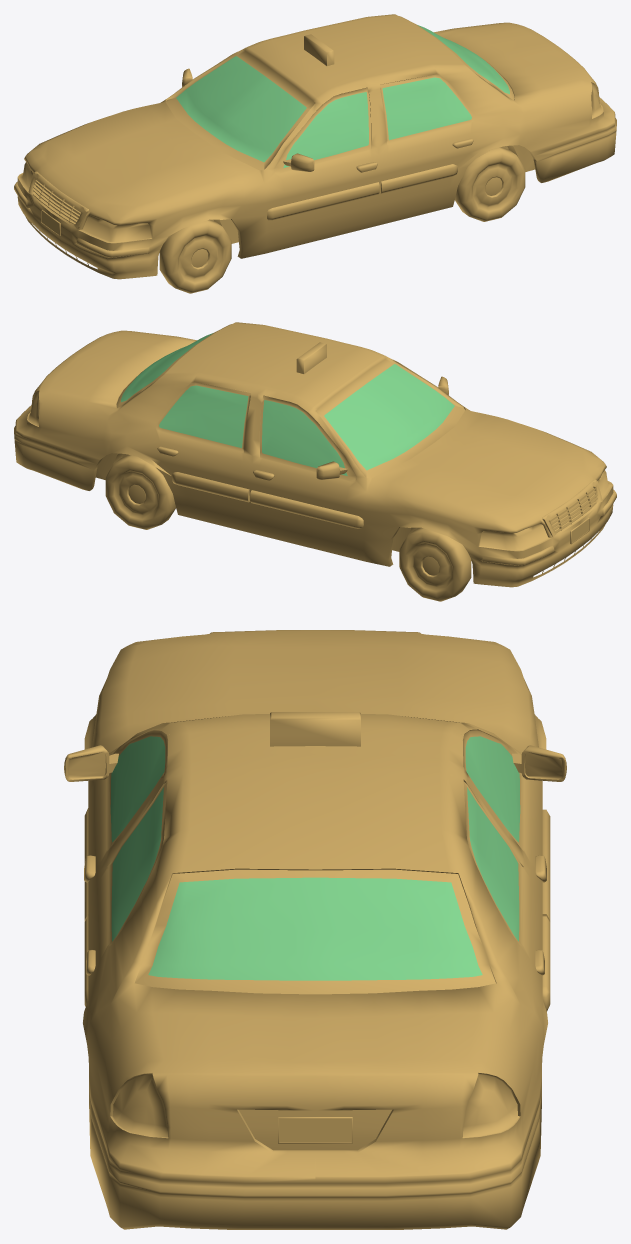
Rendered from Taxi.fbx.
3 views of the same model, one above another, from view 1: azimuth 30°, elevation 25°; view 2: azimuth 150°, elevation 25°; view 3: azimuth 270°, elevation 25° (orthographic). The views are drawn at different scales.
Parts seen in each view (by area): view 1: Plane, Wheel1, Wheel2; view 2: Plane, Wheel1, Wheel2; view 3: Plane.
Boxes of the visible parts, x1,y1,x2,y2 form: Plane: (14, 14, 616, 279); Wheel1: (159, 219, 231, 293); Wheel2: (455, 147, 525, 221); Plane: (14, 322, 616, 587); Wheel1: (399, 527, 471, 601); Wheel2: (105, 455, 175, 529); Plane: (64, 630, 566, 1229).
Size of the model in its own units: 545 by 165 by 223.
